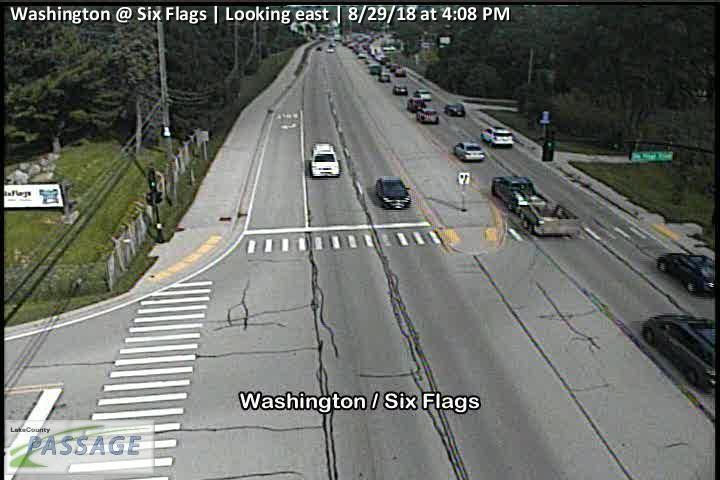Sedan: (641, 311, 720, 385), (656, 252, 719, 298), (376, 175, 411, 210), (309, 142, 340, 177), (482, 125, 514, 147), (453, 142, 485, 161), (415, 106, 440, 124), (406, 95, 427, 112), (444, 101, 466, 116), (415, 88, 434, 100), (392, 83, 409, 96)
Truck: (491, 172, 579, 237)
